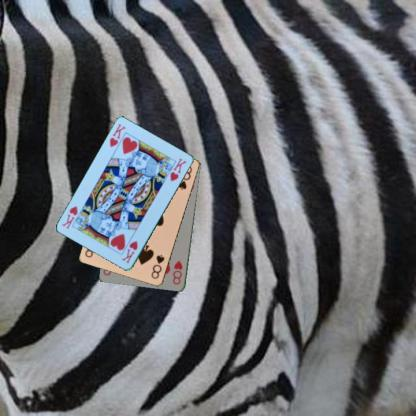8h: (170, 258, 184, 286)
8s: (148, 252, 166, 280)
Kh: (119, 238, 139, 264), (107, 122, 127, 148)
